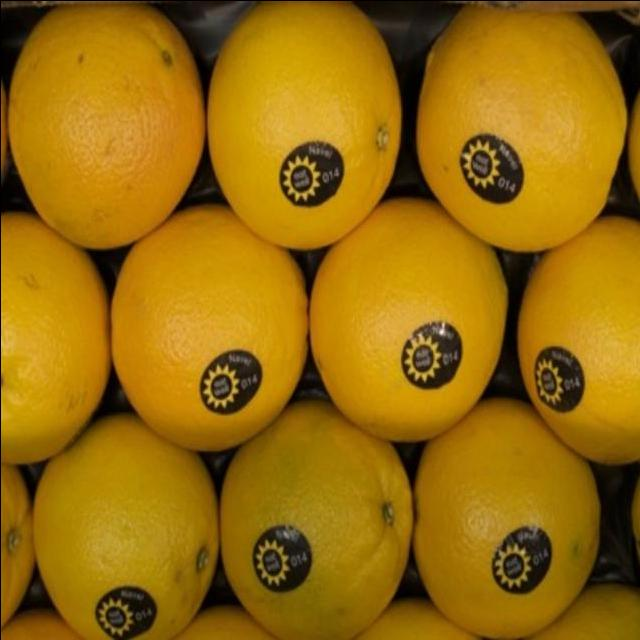Non_Gorille: (0, 2, 638, 636)
